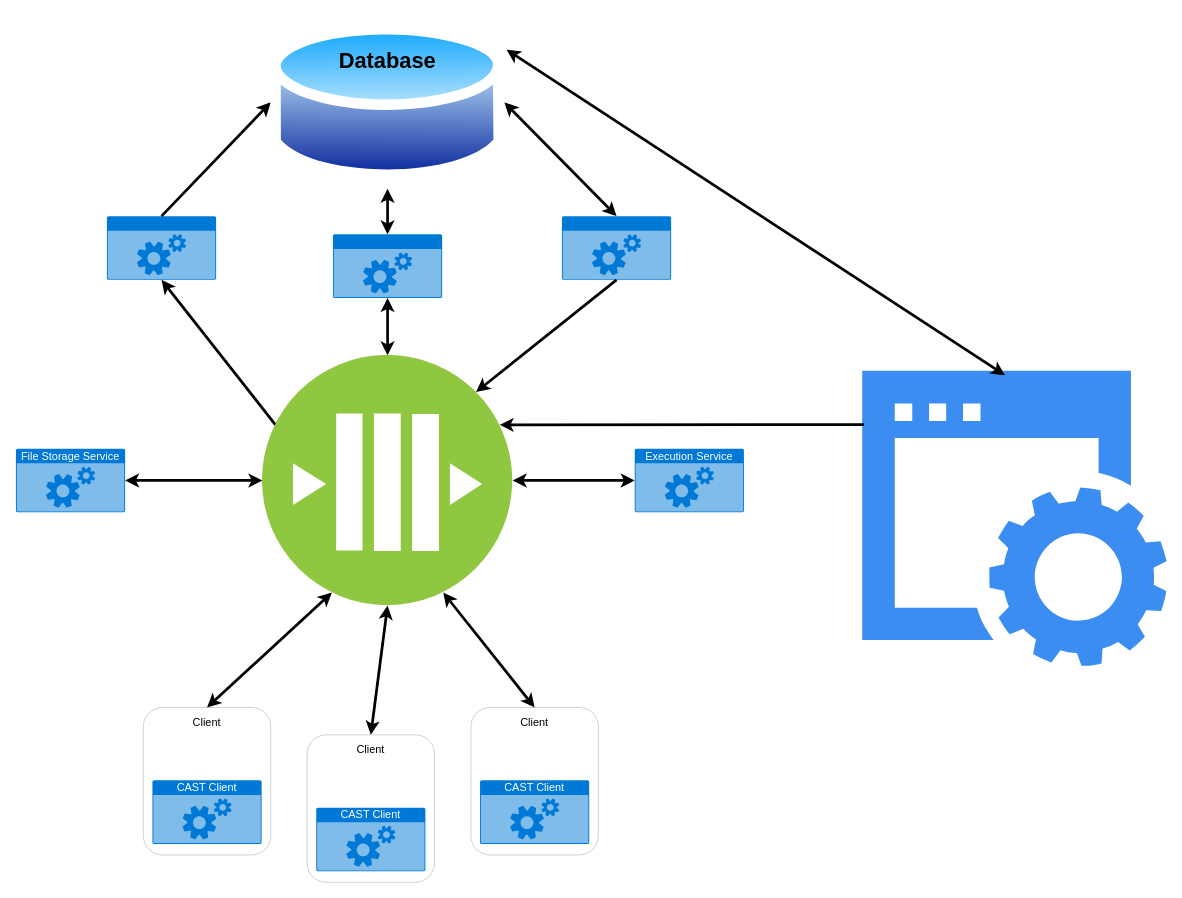
Some shapes in this 1182 by 898 pixel diagram are drawn without their labels. The shapes that lost their labels are listed below. From the top down, each one's box as (x1, y1, x2, y2) in pixels, then its label:
(106, 216, 216, 279): Logger Service
(333, 234, 442, 298): Health Service
(561, 216, 671, 279): Scheduler Service
(262, 355, 512, 605): Message Bus
